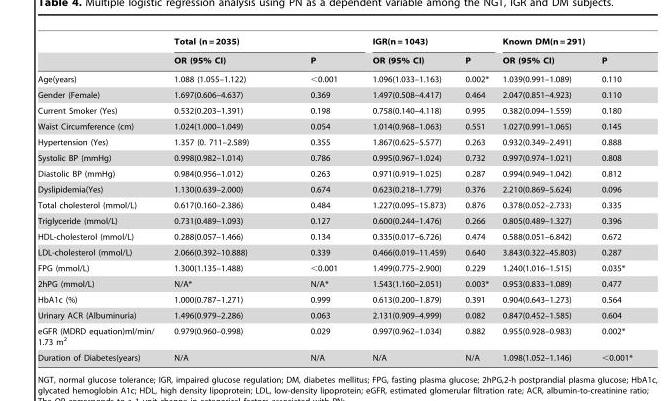table: (37, 36, 631, 361)
table column: (37, 36, 163, 361), (163, 36, 278, 361), (354, 36, 454, 361), (494, 36, 588, 361), (278, 36, 354, 361), (588, 36, 631, 361), (454, 36, 494, 361)
table column header: (37, 36, 631, 69)
table row: (37, 323, 631, 349), (37, 50, 631, 69), (37, 69, 631, 86), (37, 86, 631, 102), (37, 102, 631, 118), (37, 118, 631, 134), (37, 149, 631, 165), (37, 165, 631, 181), (37, 181, 631, 197), (37, 212, 631, 228), (37, 228, 631, 244), (37, 244, 631, 260), (37, 275, 631, 291), (37, 291, 631, 307), (37, 307, 631, 323), (37, 134, 631, 149), (37, 197, 631, 212), (37, 260, 631, 275), (37, 36, 631, 50), (37, 349, 631, 361)
table spanning cell: (163, 36, 354, 50), (354, 36, 494, 50), (494, 36, 631, 50)
